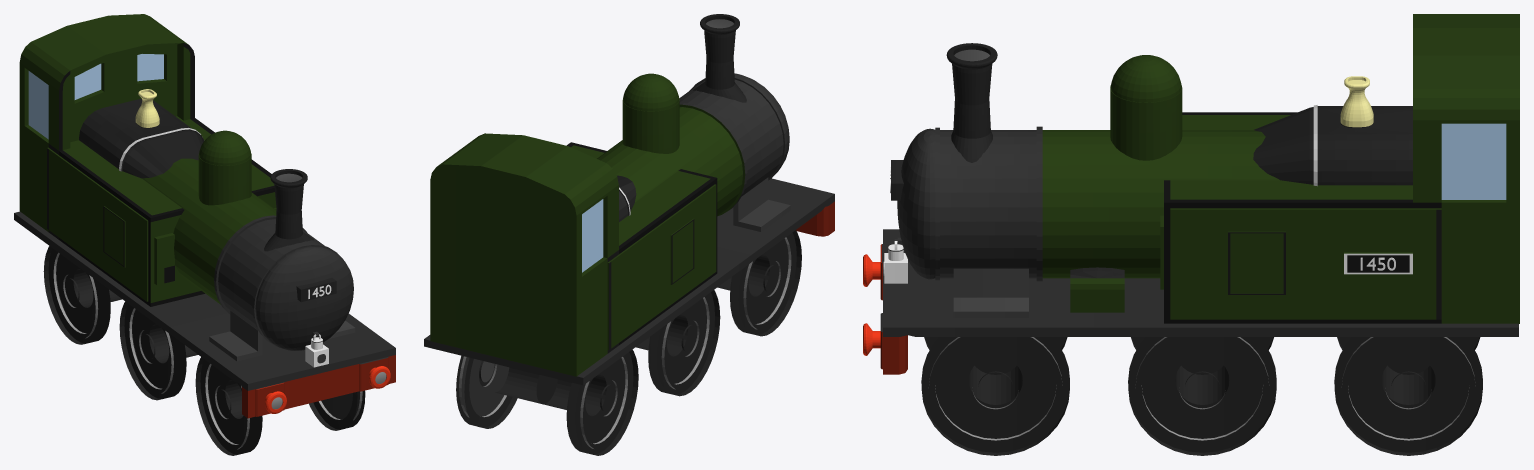
The model's file is train.glb.
3 views of the same model, side by side, from view 1: azimuth 30°, elevation 25°; view 2: azimuth 150°, elevation 25°; view 3: azimuth 270°, elevation 25° (orthographic). The views are drawn at different scales.
Parts seen in each view (by area): view 1: Cylinder; view 2: Cylinder; view 3: Cylinder.
Boxes of the visible parts, left/top/right/bottom form: Cylinder: left=14, top=14, right=395, bottom=455; Cylinder: left=424, top=14, right=834, bottom=455; Cylinder: left=863, top=14, right=1519, bottom=455.
Bounding box in the file's own units: 3.13 × 5.59 × 8.85.
Materials: 19 (18 with a texture image).
